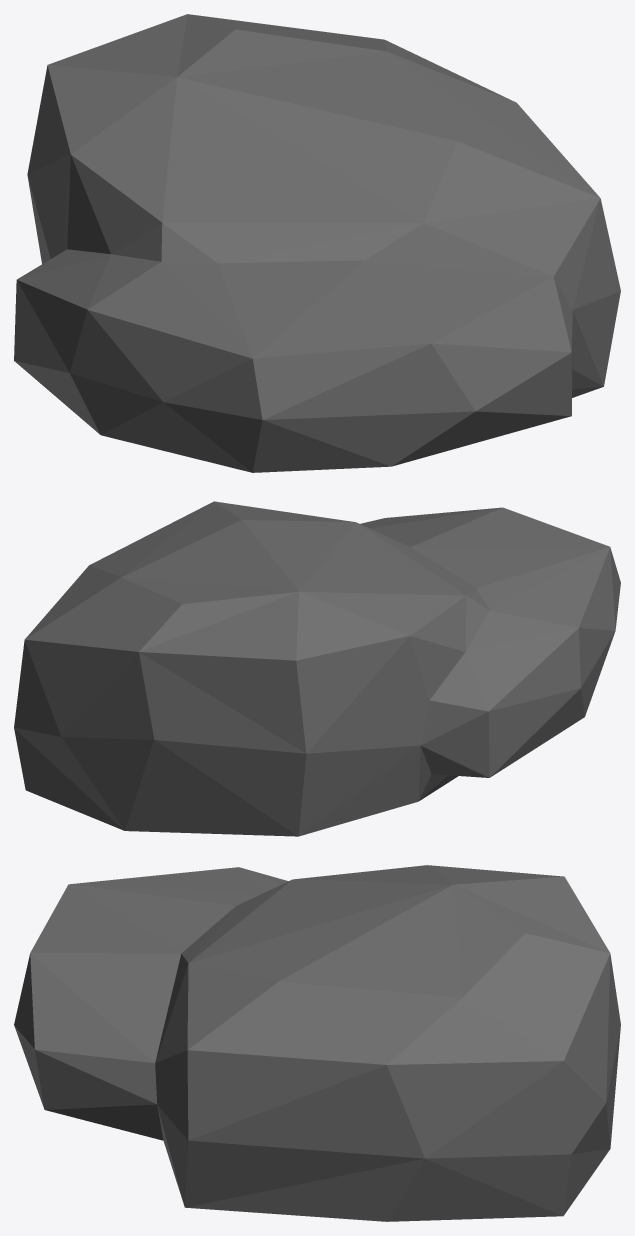
The model's file is rock__rock6_natural_medium.glb.
3 views of the same model, one above another, from view 1: azimuth 30°, elevation 25°; view 2: azimuth 150°, elevation 25°; view 3: azimuth 270°, elevation 25° (orthographic). The views are drawn at different scales.
Visible parts, largest first — view 1: rock6.natural.medium; view 2: rock6.natural.medium; view 3: rock6.natural.medium.
Part boxes in pixels (box(x1,y1,x2,y2)): rock6.natural.medium: box(14, 14, 620, 472); rock6.natural.medium: box(14, 501, 620, 836); rock6.natural.medium: box(14, 865, 620, 1221).
Size of the model in its own units: 2.7 by 1.34 by 3.14.
1 material, 1 textured.
